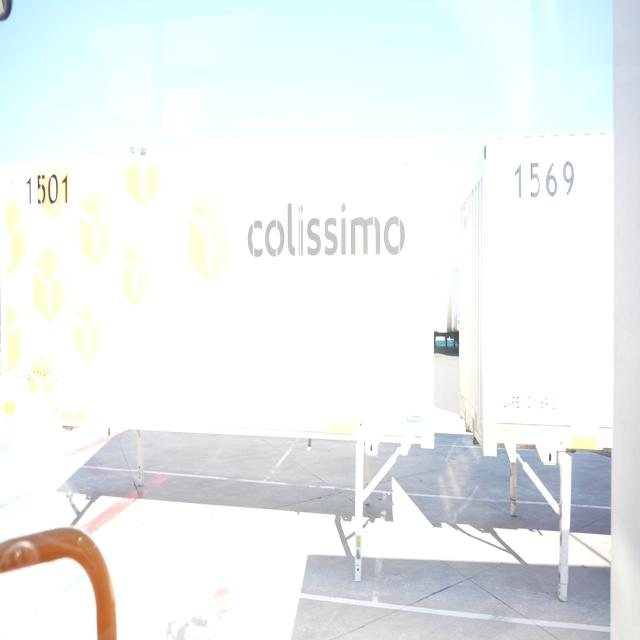Code: (510, 152, 577, 207), (24, 175, 75, 209)
